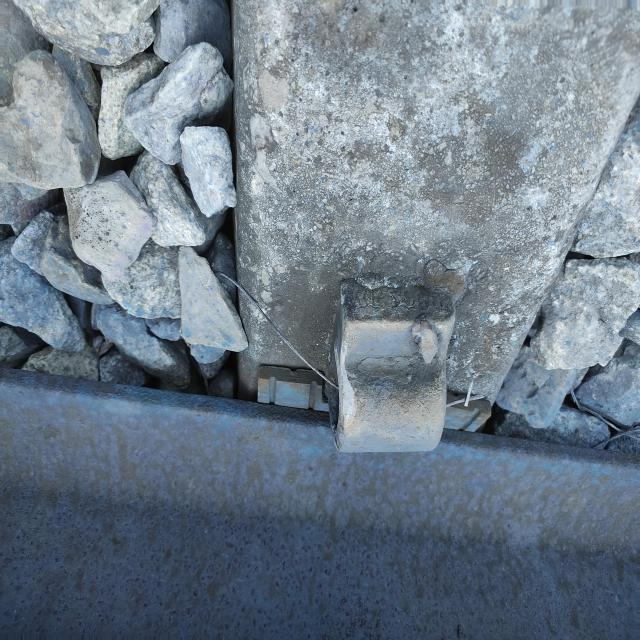Missing Fastener: (298, 271, 471, 483)
